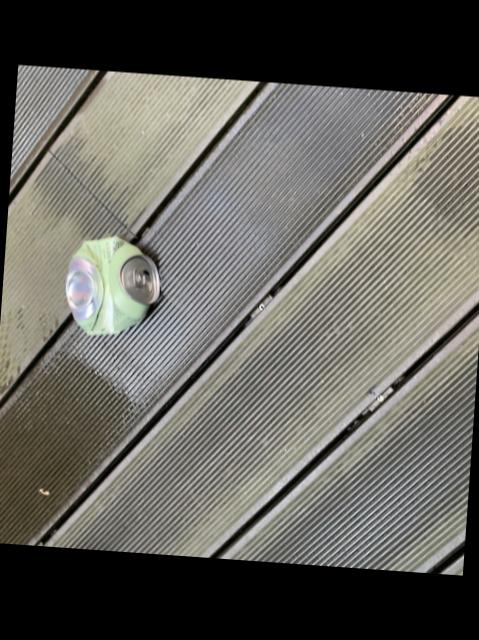metal: (62, 238, 155, 335)
